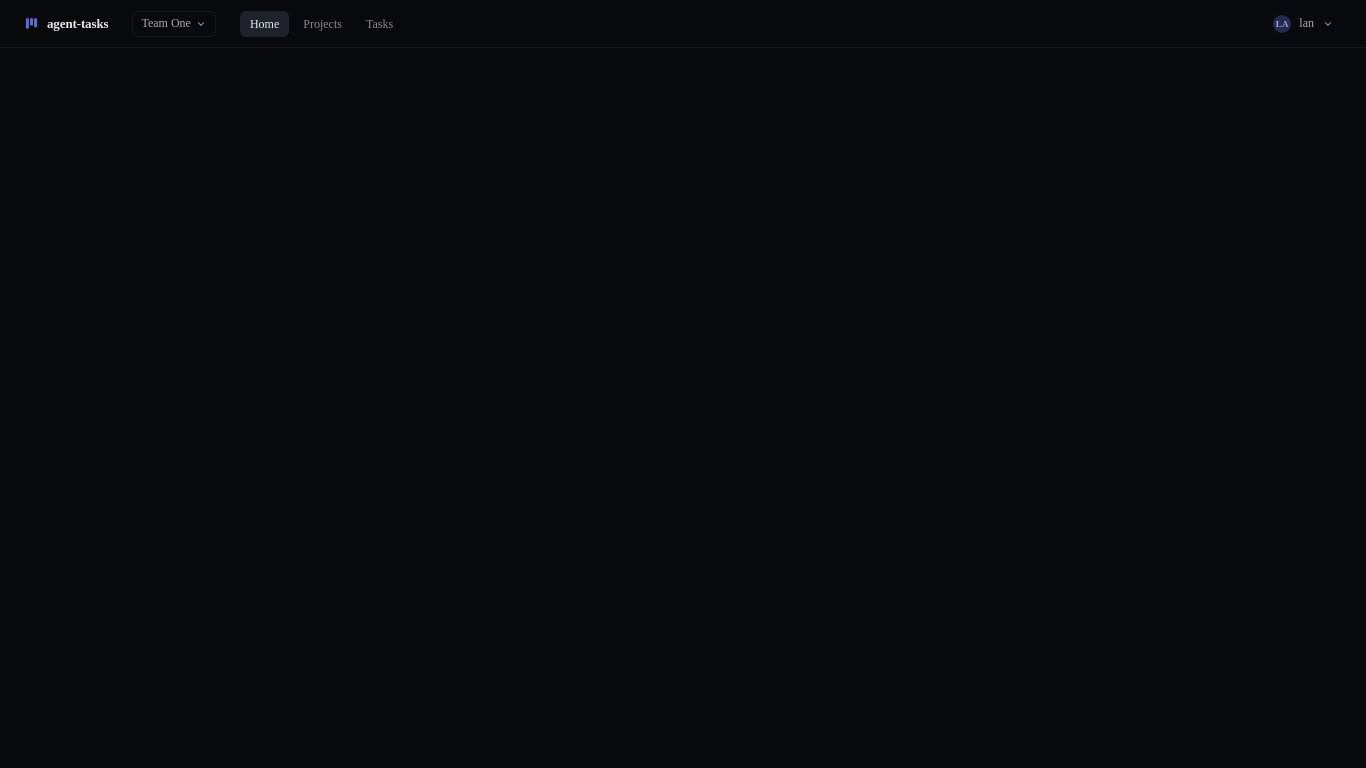
New team dialog › opens from the team switcher as a modal dialog named New team
The width and height of the screenshot is (1366, 768).
Step 1. Click the button with aria-label "Switch team, current team" → x=174, y=24, box [132,10,216,36]
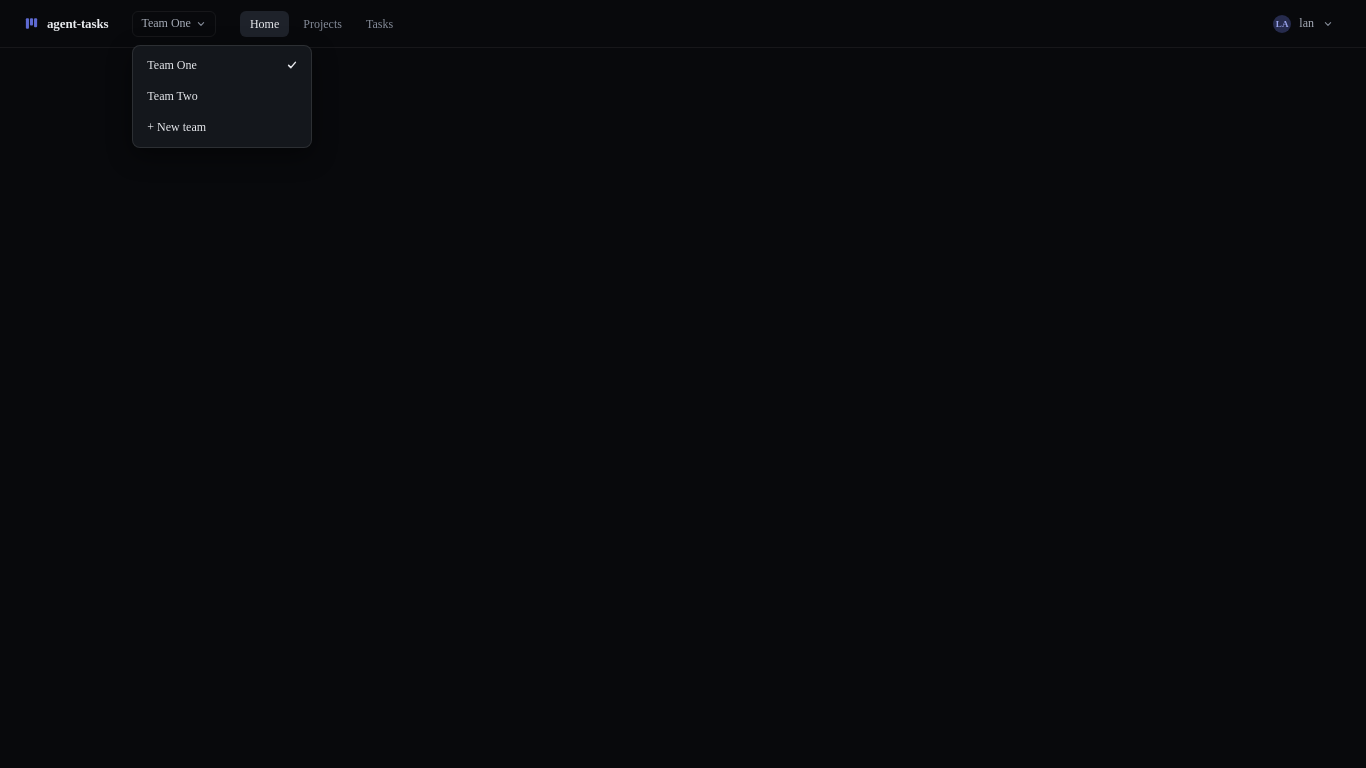
Step 2. Click the menu item "+ New team" → x=222, y=127, box [137,112,307,142]
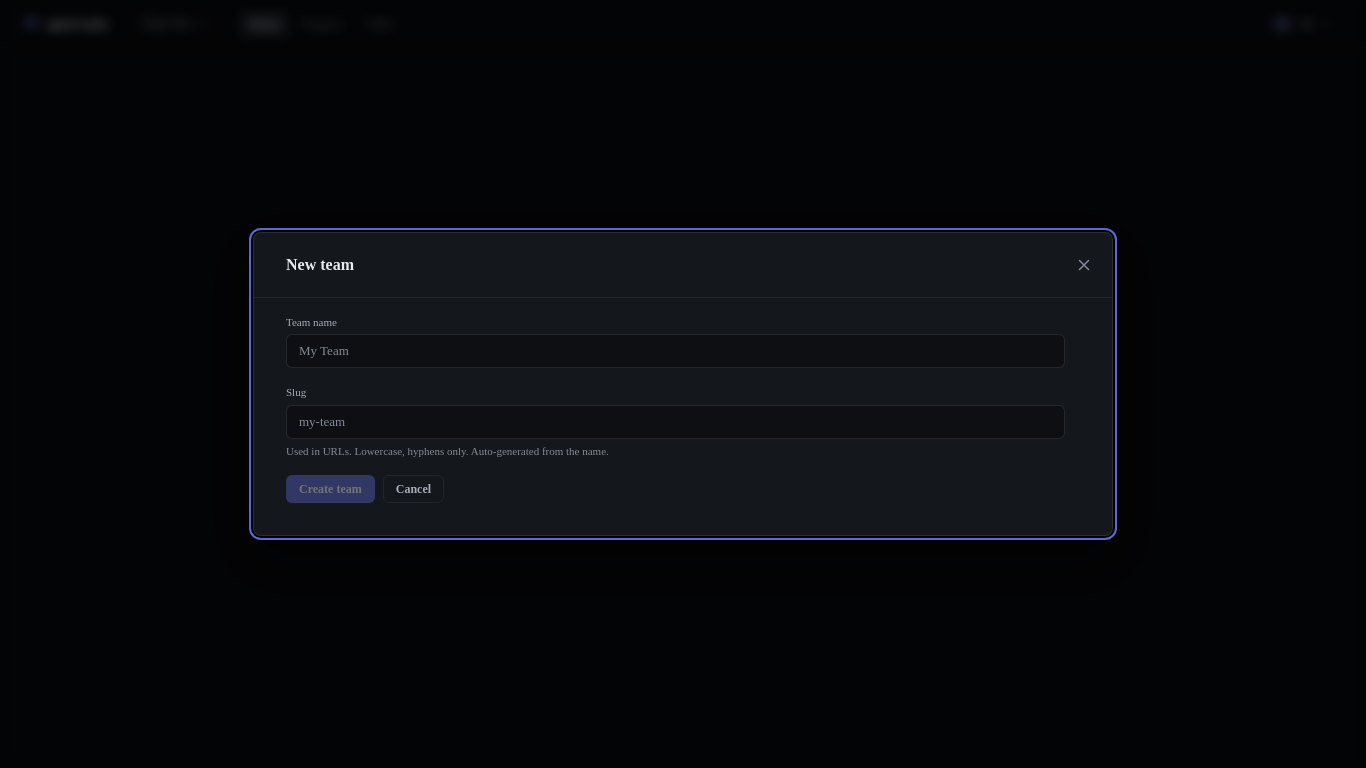
expect the header is shown: met, box [0,0,1365,48]
expect the field labelled "Team name" is shown: met, box [286,334,1065,368]
expect the button "Create team" is shown: met, box [286,475,375,503]
